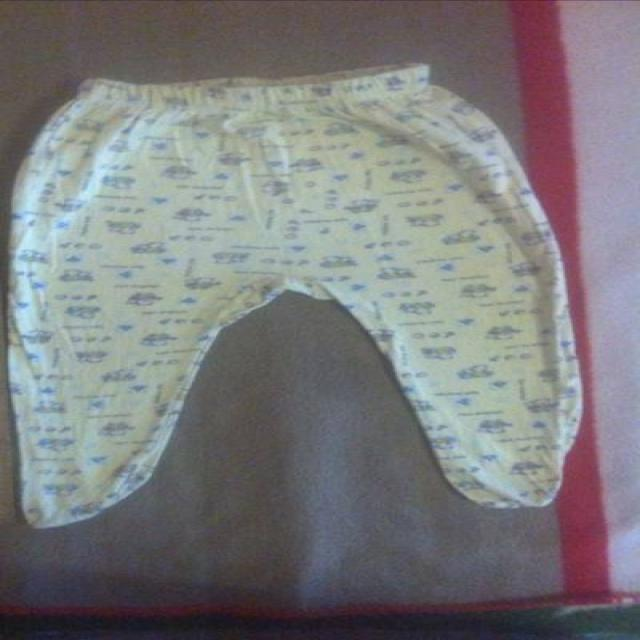Clothes -Biodegradable-: (9, 56, 584, 527)
